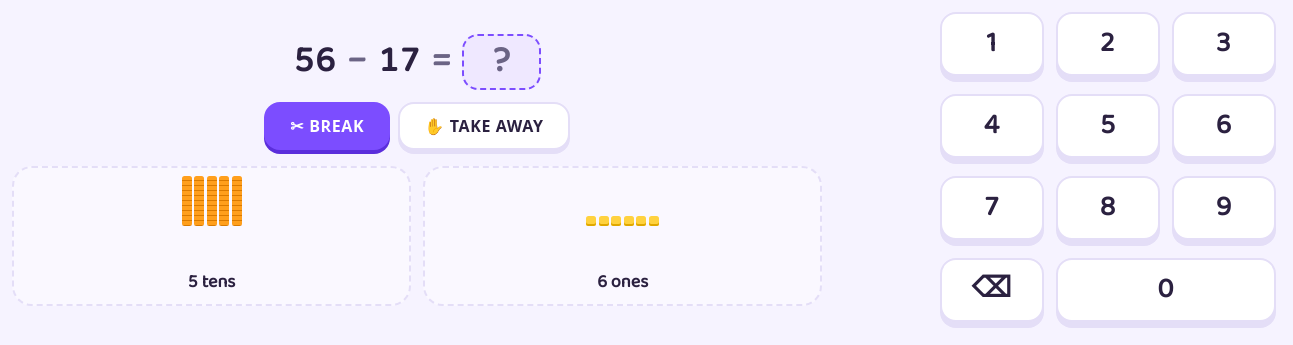
it: TradeBlocksQuestion (AC8) › subtraction offers Break and Take away tools
Click the button "✋ Take away": (484,126) [398,102,570,150]
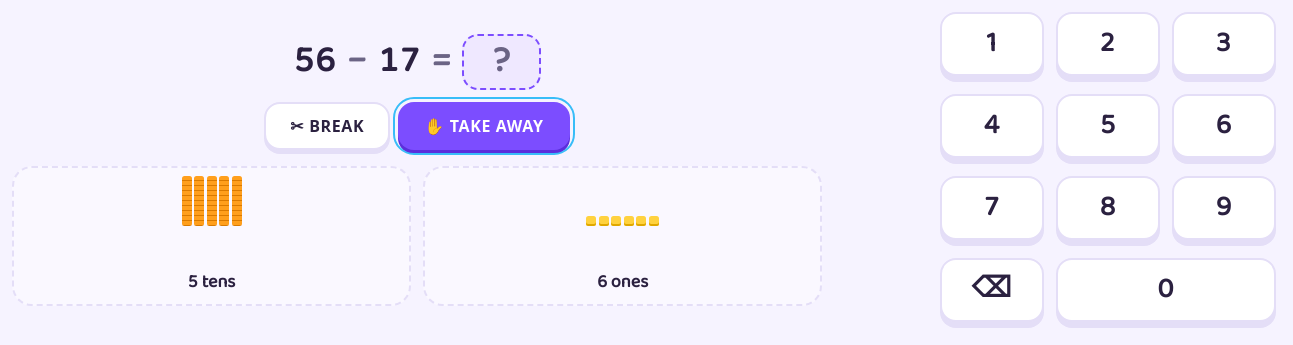
Result: the button "✋ Take away" is pressed at [398,102,570,150]
Click the button with test id "place-ones": (622,282) [423,166,822,306]
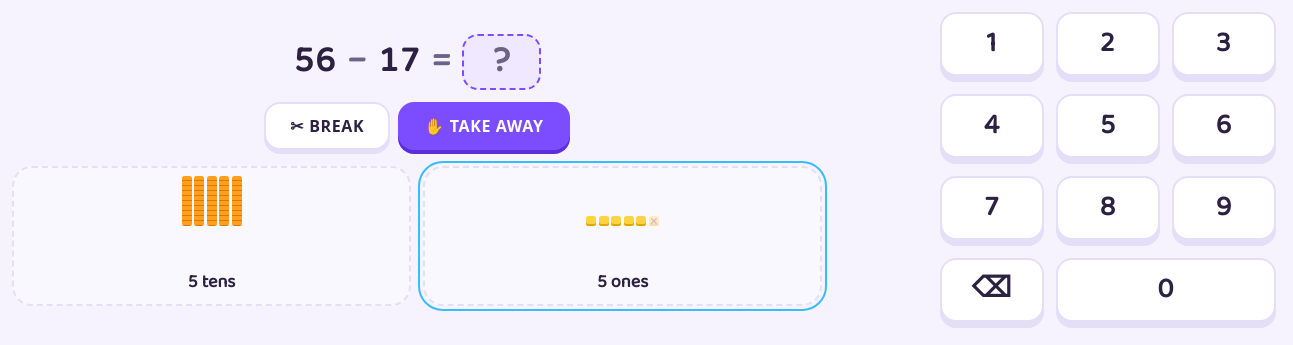
Expected: the number of elements with class "block--removed" is 1, [649,216,659,226]
Result: the button with test id "place-ones" no longer shows "6 ones"
